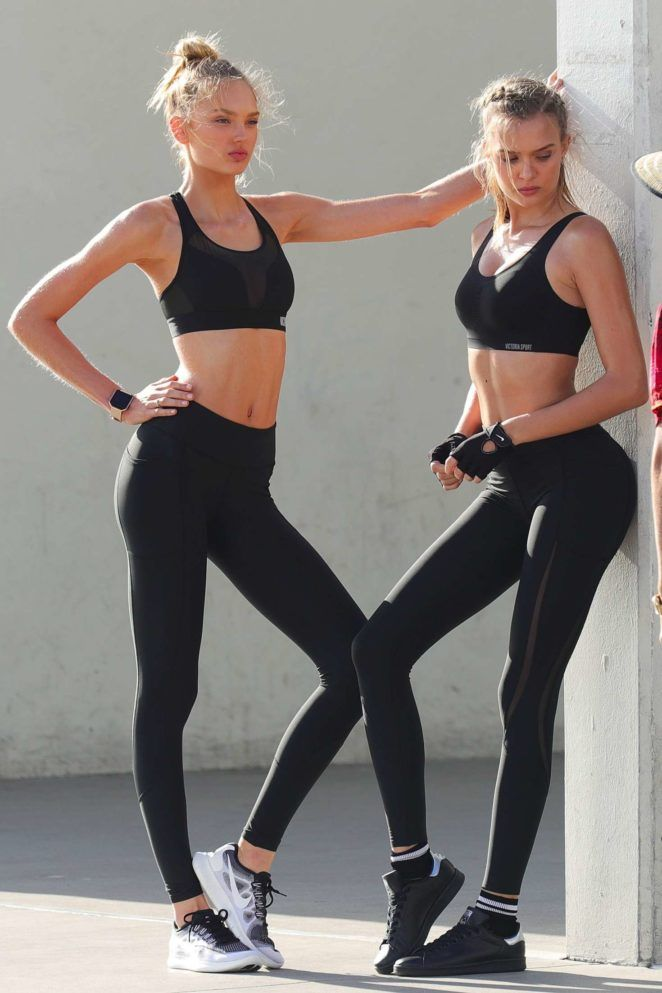Person: (7, 33, 367, 978), (349, 76, 651, 980)
